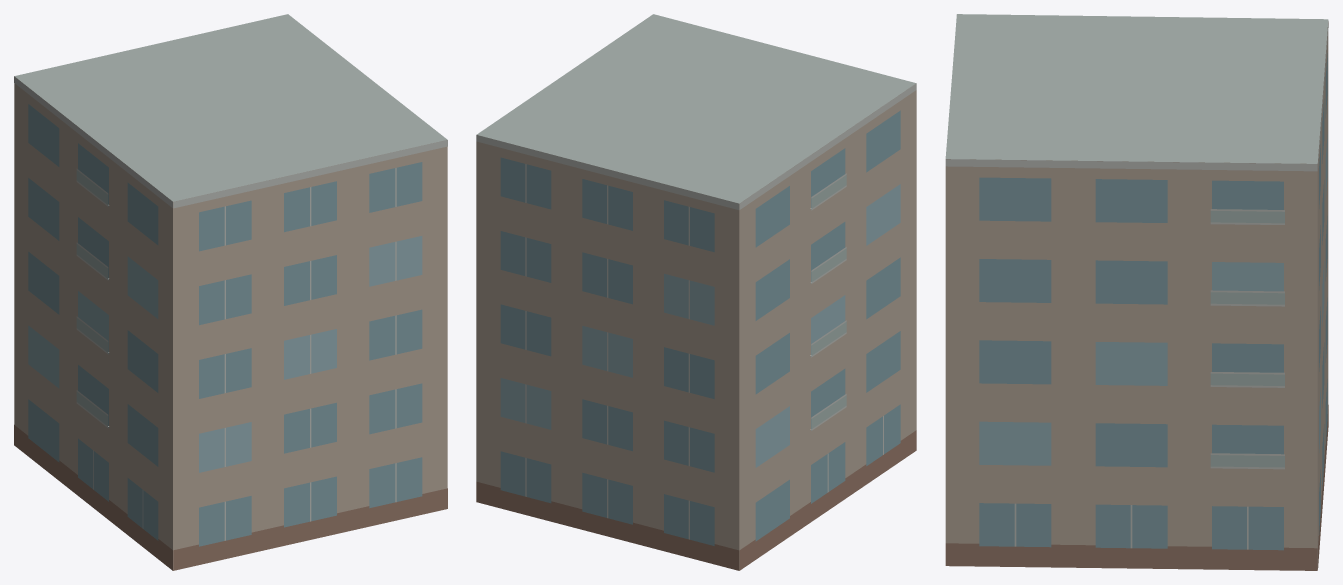
The model's file is survey-upis-32832903.glb.
The picture shows the model from 3 angles, left to right: view 1: azimuth 30°, elevation 25°; view 2: azimuth 150°, elevation 25°; view 3: azimuth 270°, elevation 25°; orthographic projection. The views are drawn at different scales.
Visible parts, largest first — view 1: survey-upis-32832903.tmp; view 2: survey-upis-32832903.tmp; view 3: survey-upis-32832903.tmp.
Part boxes in pixels (x1=…): survey-upis-32832903.tmp: x1=14, y1=14, x2=447, y2=570; survey-upis-32832903.tmp: x1=476, y1=14, x2=916, y2=570; survey-upis-32832903.tmp: x1=945, y1=14, x2=1328, y2=570.
Size of the model in its own units: 10.6 by 13.4 by 11.44.
